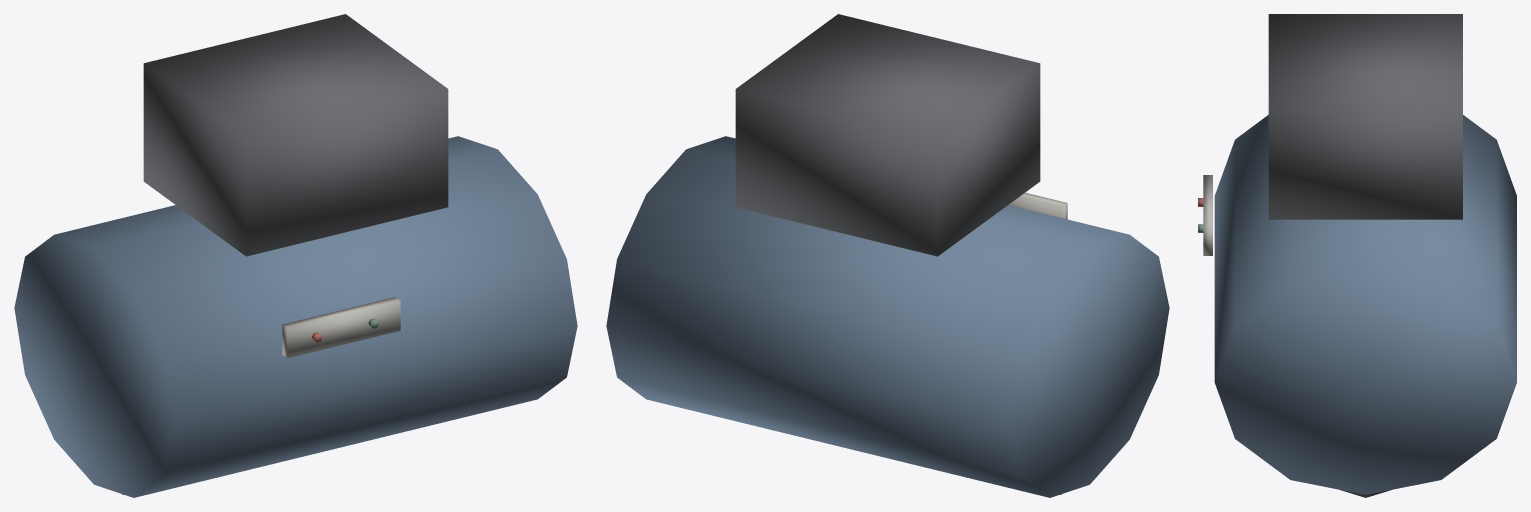
File: air_compressor__deep.glb
The picture shows the model from 3 angles, left to right: view 1: azimuth 30°, elevation 25°; view 2: azimuth 150°, elevation 25°; view 3: azimuth 270°, elevation 25°; orthographic projection. The views are drawn at different scales.
Visible parts, largest first — view 1: world; view 2: world; view 3: world.
Boxes of the visible parts, left/top/right/bottom form: world: left=14, top=14, right=577, bottom=497; world: left=606, top=14, right=1169, bottom=497; world: left=1198, top=14, right=1516, bottom=497.
Size of the model in its own units: 1 by 0.89 by 0.721.
